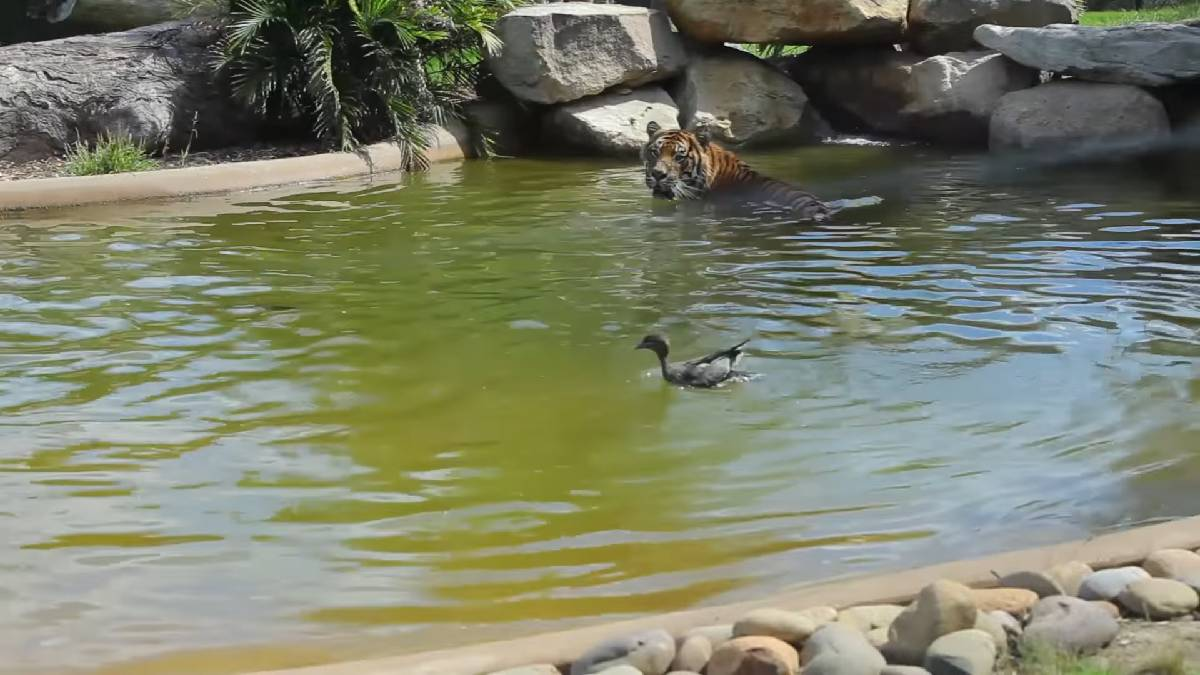Tigrew: (601, 109, 834, 280)
